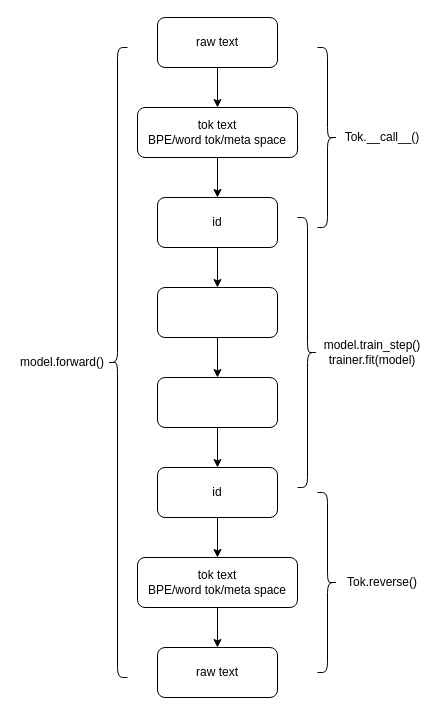
Image size: 444x715. Some labels were removed from this diagram. Here are the shapes that lost their labels. From the top down, the centre of each, then its label:
At [217,312]: "encoder".
At [217,402]: "decoder".
